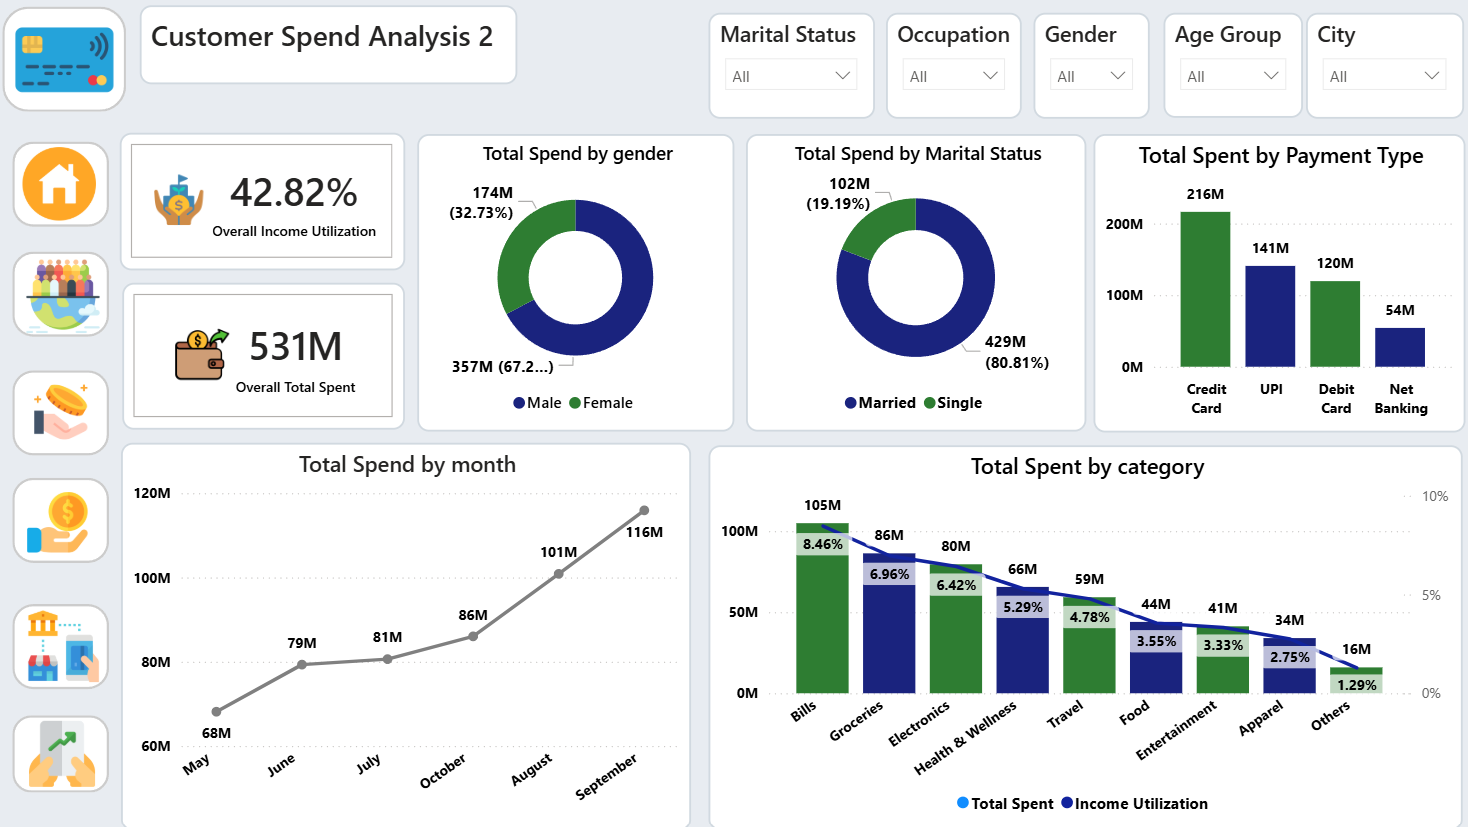

What the dashboard file says about the page in this screenshot:
{"tool":"powerbi","page":{"name":"Spend Analysis 2","canvas":[1280,720],"ordinal":3},"visuals":[{"type":"shape","box":[10,10.6,106.7,90.7],"z":0,"group":"g1"},{"type":"cardVisual","fields":{"Data":["DAX Measures.Overall Total Spend"]},"box":[113.3,248.3,243.3,126.7],"z":0},{"type":"image","box":[14.4,10,98.4,96.7],"z":1000,"group":"g1"},{"type":"cardVisual","fields":{"Data":["DAX Measures.Overall Income Utilization"]},"box":[111.1,119.4,245.6,118],"z":1000},{"type":"donutChart","title":"Total Spend by gender","fields":{"Category":["Dim Customers.gender"],"Y":["DAX Measures.Overall Total Spend"]},"box":[367.1,120,272.9,255.7],"z":2000},{"type":"donutChart","title":"Total Spend by Marital Status","fields":{"Y":["DAX Measures.Overall Total Spend"],"Category":["Dim Customers.marital status"]},"box":[650,120,292.9,255.7],"z":3000},{"type":"lineChart","title":"Total Spend by month","fields":{"Category":["Fact Spends.month"],"Y":["DAX Measures.Overall Total Spend"]},"box":[111.4,385.7,490,334.3],"z":4000},{"type":"lineStackedColumnComboChart","title":"Total Spent by Payment Type","fields":{"Category":["Fact Spends.payment_type"],"Y":["DAX Measures.Overall Total Spent"]},"box":[948.2,120.8,319.7,256.6],"z":5000},{"type":"lineStackedColumnComboChart","title":"Total Spent by category","fields":{"Category":["Fact Spends.category"],"Y":["DAX Measures.Overall Total Spent"],"Y2":["DAX Measures.Overall Income Utilization"]},"box":[617.5,388.3,649.1,332.1],"z":6000},{"type":"slicer","title":"Age Group","fields":{"Values":["Dim Customers.age_group"]},"box":[1008.6,15.7,120,90],"z":7000},{"type":"slicer","title":"City","fields":{"Values":["Dim Customers.city"]},"box":[1131.4,15.7,135.7,91.4],"z":8000},{"type":"slicer","title":"Gender","fields":{"Values":["Dim Customers.gender"]},"box":[897.1,15.7,100,91.4],"z":9000},{"type":"slicer","title":"Marital Status","fields":{"Values":["Dim Customers.marital status"]},"box":[617.1,15.7,142.9,91.4],"z":10000},{"type":"slicer","title":"Occupation","fields":{"Values":["Dim Customers.occupation"]},"box":[770,15.7,117.1,91.4],"z":11000},{"type":"textbox","box":[128.3,10,325,68.3],"z":12000},{"type":"shape","box":[18.3,620,83.3,66.7],"z":13000},{"type":"shape","box":[18.3,525,83.3,73.3],"z":14000},{"type":"shape","box":[18.3,416.7,83.3,73.3],"z":15000},{"type":"shape","box":[18.3,323.3,83.3,73.3],"z":16000},{"type":"shape","box":[18.3,221.7,83.3,73.3],"z":17000},{"type":"shape","box":[18.3,126.7,83.3,73.3],"z":18000},{"type":"image","box":[18.3,126.7,80,73.3],"z":19000},{"type":"image","box":[21.7,223.3,80,73.3],"z":20000},{"type":"image","box":[30,331.7,60,56.7],"z":21000},{"type":"image","box":[21.7,423.3,71.7,61.7],"z":22000},{"type":"image","box":[26.7,525,71.7,73.3],"z":23000},{"type":"image","box":[25,620,73.3,66.7],"z":24000},{"type":"group","id":"g1","title":"Group 1","box":[10,10,106.7,96.7],"z":25000}]}

Visuals, with their boxes in screenshot pixels (x1, y1, x2, y2), scaled from the page's 1280x720 canvas onto the 1468x827 screenshot:
shape: locate(11, 12, 134, 116)
cardVisual - DAX Measures.Overall Total Spend: locate(130, 285, 409, 431)
image: locate(17, 11, 129, 123)
cardVisual - DAX Measures.Overall Income Utilization: locate(127, 137, 409, 273)
"Total Spend by gender" donutChart: locate(421, 138, 734, 432)
"Total Spend by Marital Status" donutChart: locate(745, 138, 1081, 432)
"Total Spend by month" lineChart: locate(128, 443, 690, 826)
"Total Spent by Payment Type" lineStackedColumnComboChart: locate(1087, 139, 1454, 433)
"Total Spent by category" lineStackedColumnComboChart: locate(708, 446, 1453, 826)
"Age Group" slicer: locate(1157, 18, 1294, 121)
"City" slicer: locate(1298, 18, 1453, 123)
"Gender" slicer: locate(1029, 18, 1144, 123)
"Marital Status" slicer: locate(708, 18, 872, 123)
"Occupation" slicer: locate(883, 18, 1017, 123)
textbox: locate(147, 11, 520, 90)
shape: locate(21, 712, 117, 789)
shape: locate(21, 603, 117, 687)
shape: locate(21, 479, 117, 563)
shape: locate(21, 371, 117, 456)
shape: locate(21, 255, 117, 339)
shape: locate(21, 146, 117, 230)
image: locate(21, 146, 113, 230)
image: locate(25, 256, 117, 341)
image: locate(34, 381, 103, 446)
image: locate(25, 486, 107, 557)
image: locate(31, 603, 113, 687)
image: locate(29, 712, 113, 789)
"Group 1" group: locate(11, 11, 134, 123)
